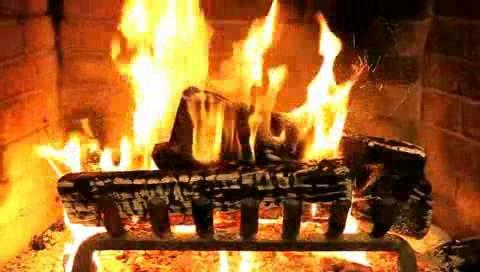fire: (102, 0, 364, 173)
